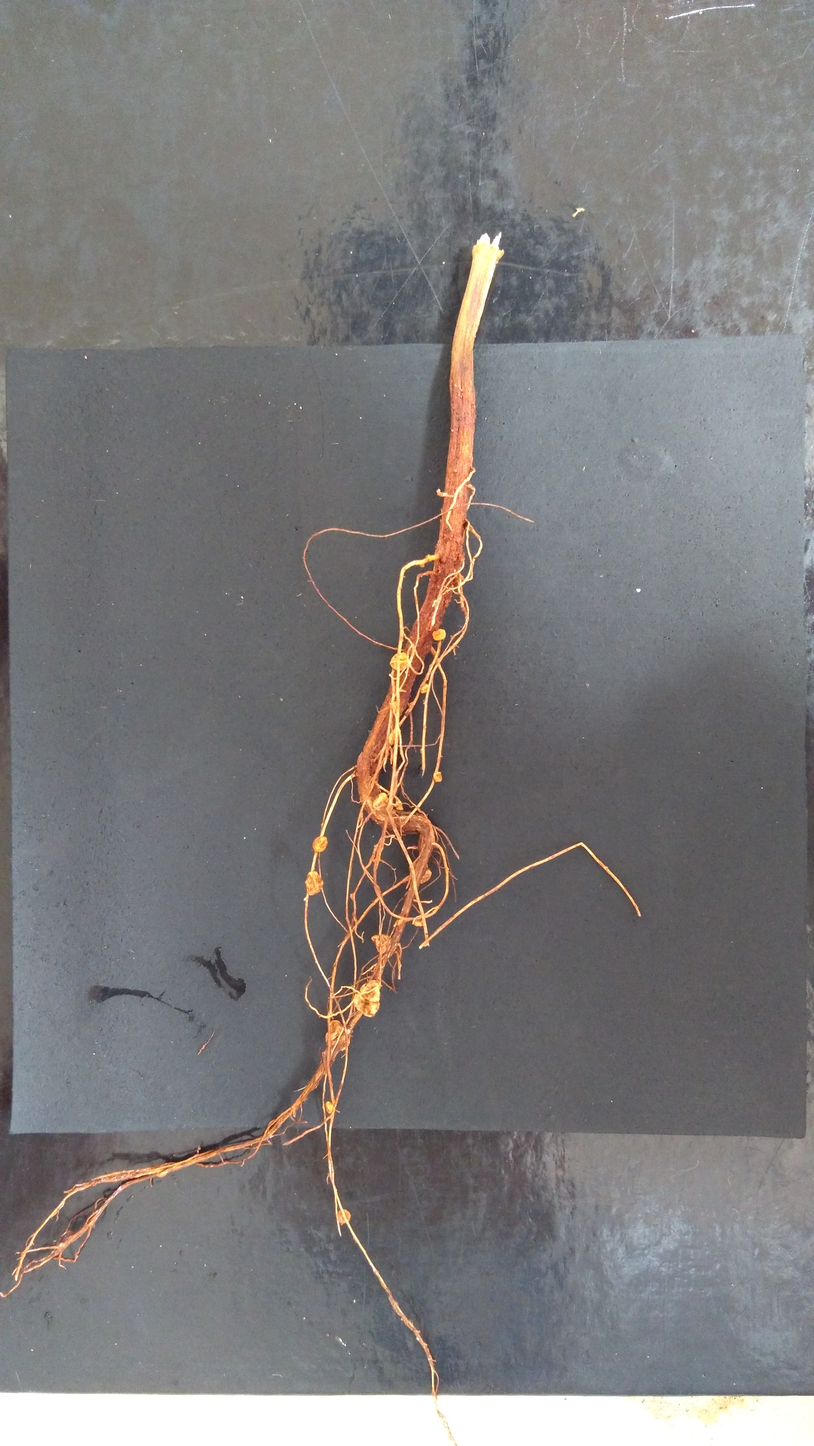nodule: (353, 991, 380, 1017), (409, 861, 432, 884), (359, 979, 380, 1002), (305, 871, 324, 895), (371, 934, 393, 954), (372, 792, 393, 812), (389, 652, 409, 672), (325, 1020, 344, 1041), (327, 1034, 350, 1050), (312, 836, 327, 852), (388, 727, 400, 746), (336, 1209, 351, 1223), (155, 1164, 168, 1178), (432, 629, 446, 641), (411, 914, 425, 926), (453, 573, 465, 585), (389, 700, 402, 710), (419, 683, 429, 695), (325, 1101, 335, 1113), (455, 551, 465, 562), (433, 771, 442, 783), (395, 799, 404, 811), (424, 553, 432, 563), (345, 1027, 353, 1034), (408, 702, 414, 708), (436, 488, 441, 494), (461, 606, 466, 611), (419, 564, 425, 568), (436, 584, 440, 590), (450, 584, 454, 588)
